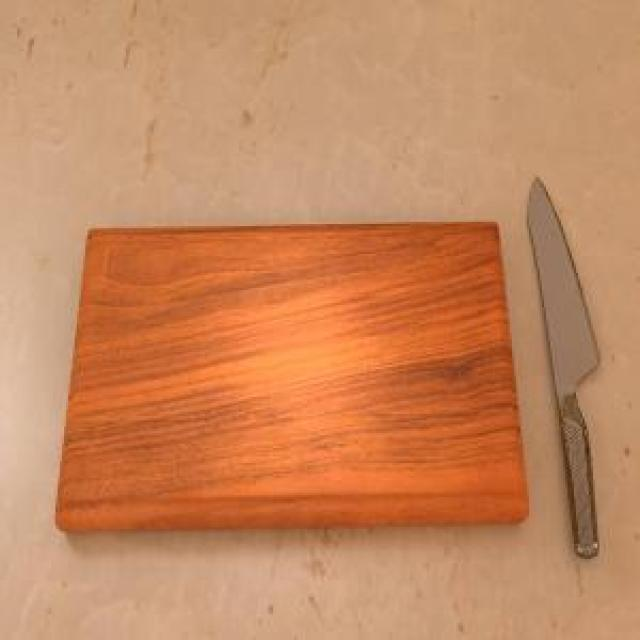knife: (525, 162, 607, 565)
